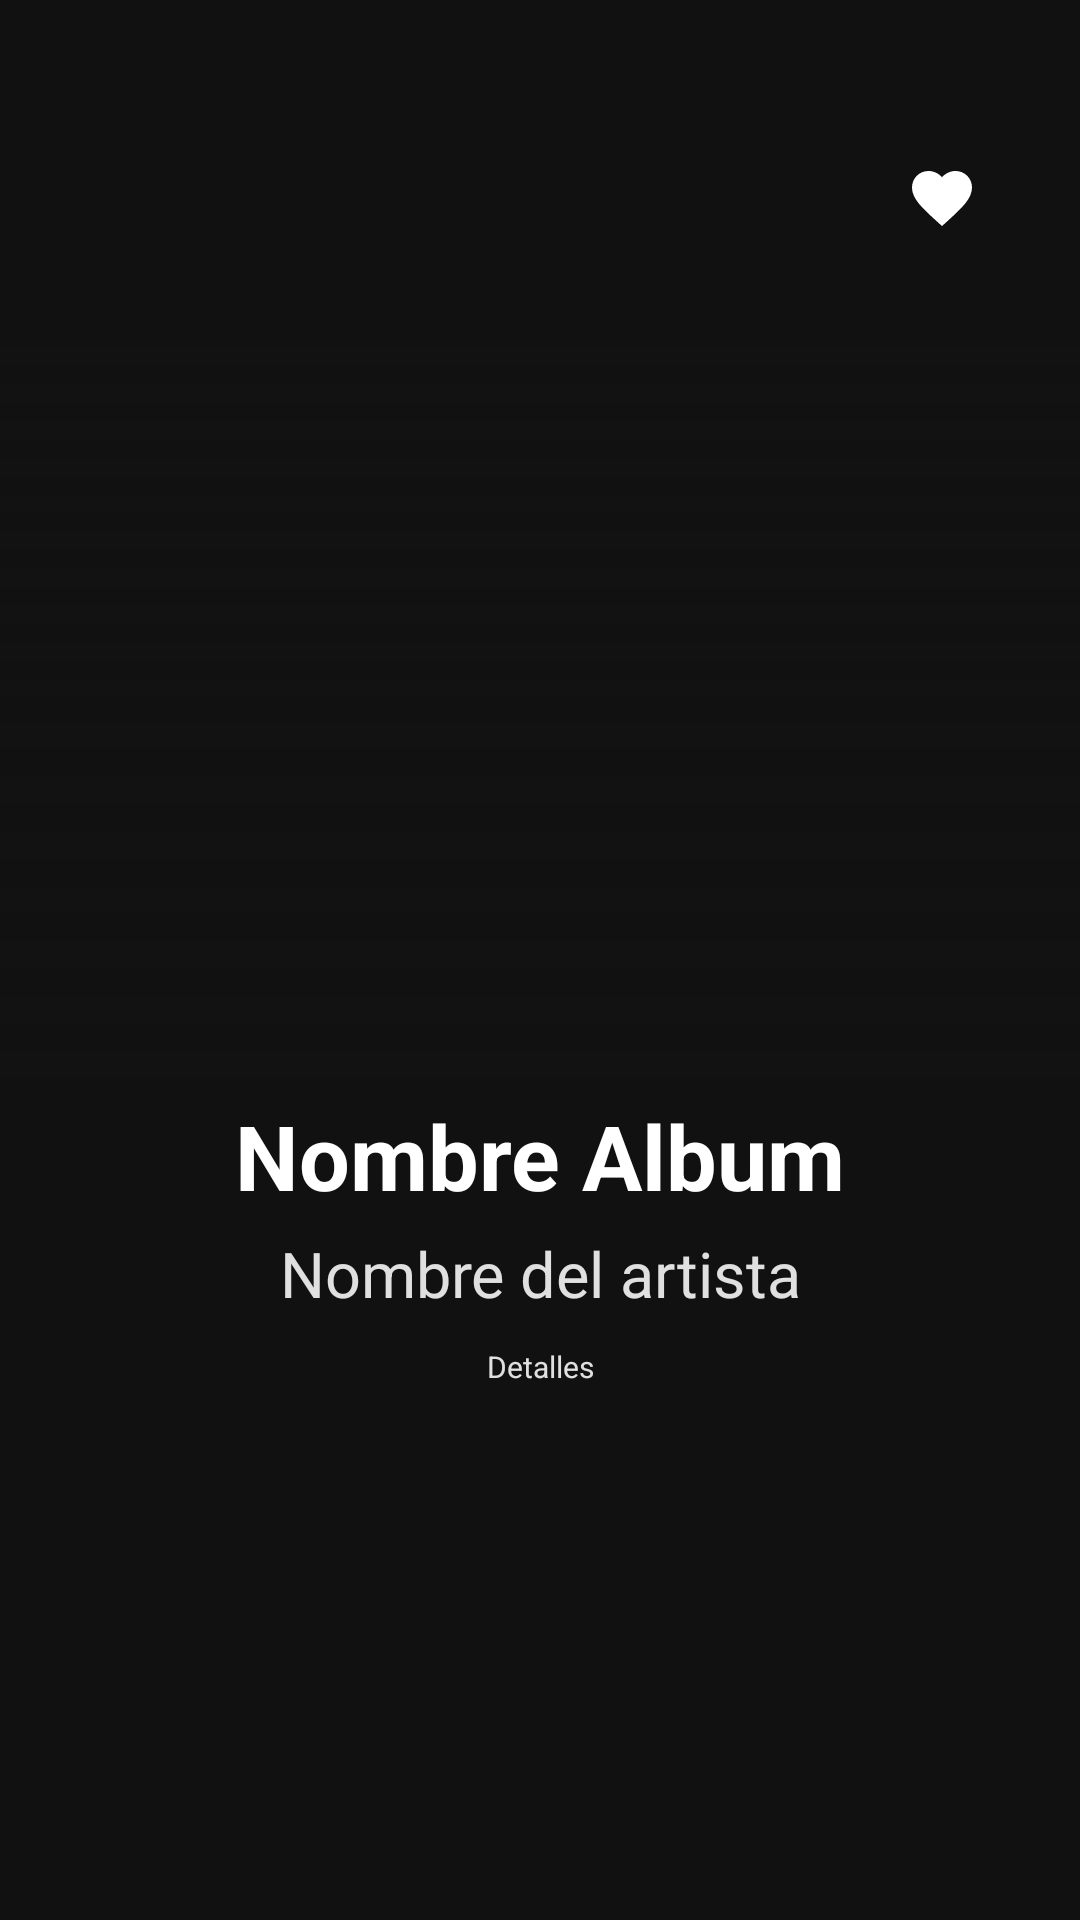

Icons on this 1080 x 1920 Android screen, each with its box as [x1,y1,x2,y2]:
favorito: [912,171,972,226]
